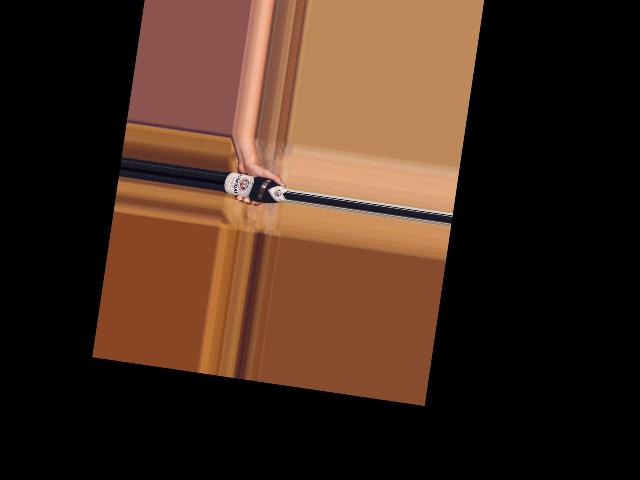beer: (221, 170, 288, 205)
